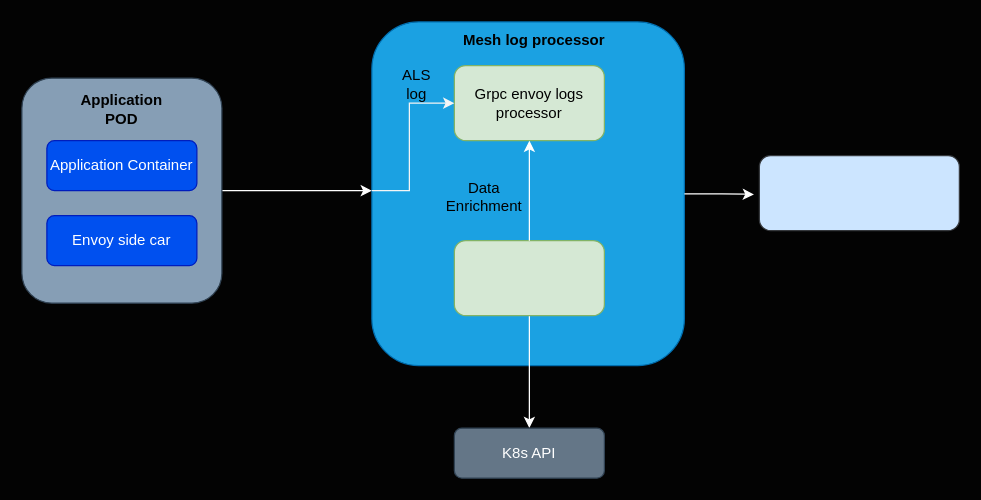
Some shapes in this 981 by 500 pixel diagram are drawn without their labels. Here are the shapes that lost their labels. From the top down, the centre of each, then its label:
At pixel 858 192: "External Interfaces".
At pixel 528 277: "K8s SharedInformer (data enrichment)".
